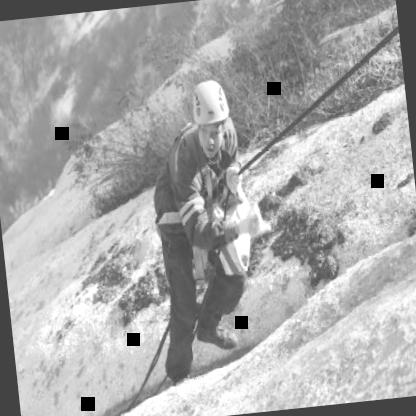helmet: (182, 70, 238, 155)
